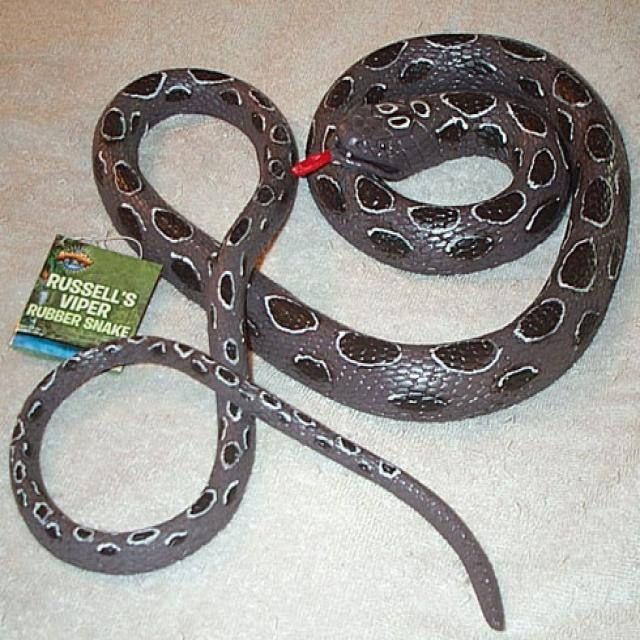Snake: (8, 31, 631, 630)
